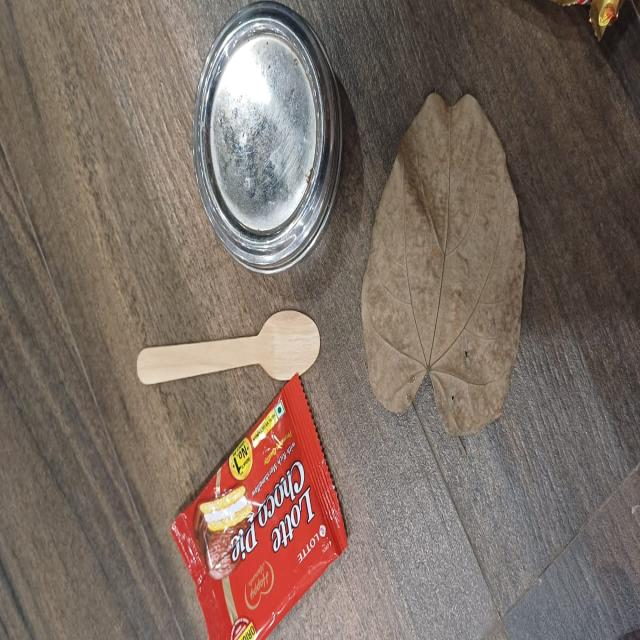Leaf-Bio: (362, 90, 526, 443)
Plastic-NonBio: (170, 375, 353, 640)
Steel-NonBio: (191, 2, 345, 278)
Wooden Spoon-Bio: (136, 306, 319, 392)
